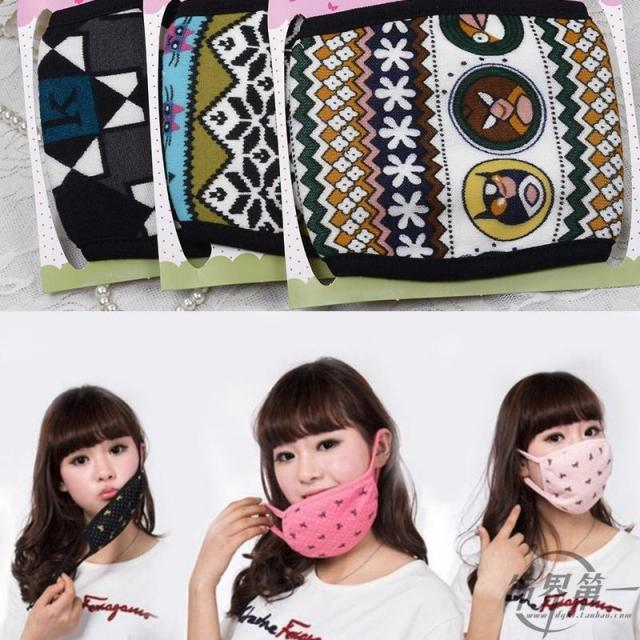mask: (272, 405, 366, 518), (528, 415, 614, 516)
nomask: (64, 420, 138, 513)
